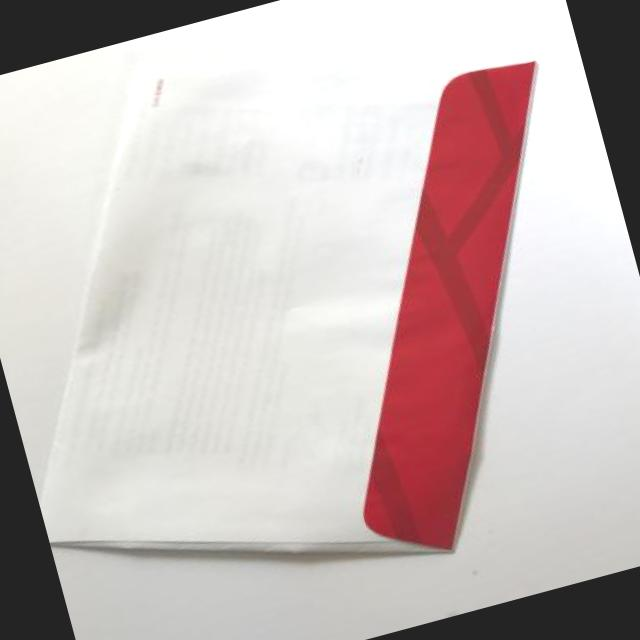paper: (40, 57, 510, 550)
